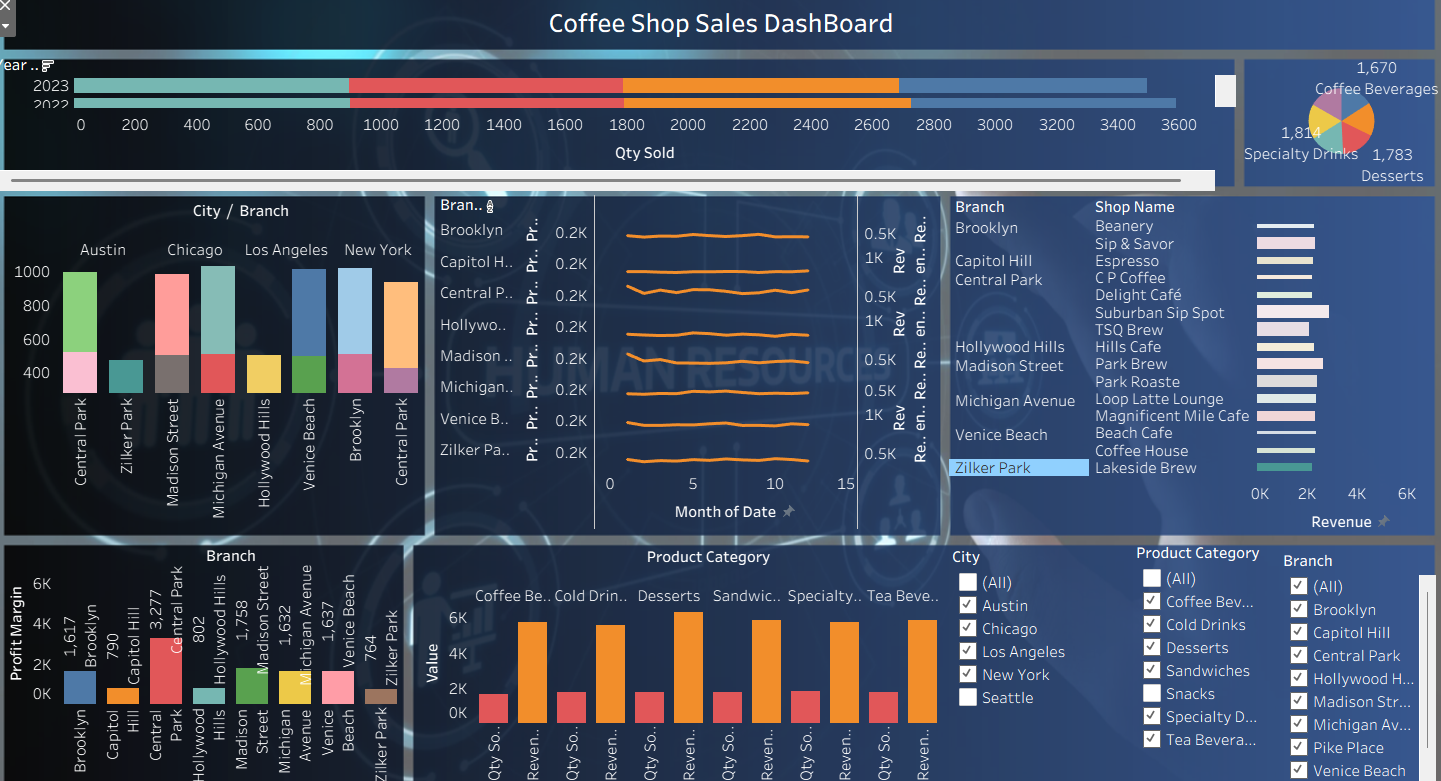

Layout of this report page (visuals, bound fields, positions):
{"tool":"tableau","page":{"name":"Dashboard 1","canvas":[2200,900],"ordinal":0},"visuals":[{"type":"text","box":[12,10,1428,35]},{"type":"worksheet","title":"Product Category vs Qty Sold","mark":"Pie","box":[1248,60,197,132]},{"type":"worksheet","title":"date vs revenue","mark":"Automatic","rows":["Branch","PROFIT MARGIN","REVENUE"],"cols":["DATE"],"box":[439,200,504,335]},{"type":"worksheet","title":"Shop Name vs Revenue","mark":"Automatic","rows":["Branch","Shop Name"],"cols":["REVENUE"],"box":[954,202,485,342]},{"type":"worksheet","title":"Shop Name VS Transition Id","mark":"Automatic","rows":["PROFIT MARGIN"],"cols":["City","Branch"],"box":[10,205,419,333]},{"type":"filter","title":"Product Category Vs Revenue Vs Qty sold","param":"[federated.012i7te1sl9wpy1311mln1aq0pjk].[none:PRODUCT CATEGORY:nk]","box":[1141,547,129,225]},{"type":"worksheet","title":"Branch Vs profit margin","mark":"Automatic","rows":["PROFIT MARGIN"],"cols":["Branch"],"box":[3,550,405,239]},{"type":"worksheet","title":"Product Category Vs Revenue Vs Qty sold","mark":"Automatic","cols":["PRODUCT CATEGORY"],"box":[419,551,528,237]},{"type":"filter","title":"Shop Name VS Transition Id","param":"[federated.012i7te1sl9wpy1311mln1aq0pjk].[none:City:nk]","box":[957,551,160,236]},{"type":"filter","title":"Shop Name VS Transition Id","param":"[federated.012i7te1sl9wpy1311mln1aq0pjk].[none:Branch:nk]","box":[1288,555,153,233]},{"type":"legend","title":"Product Category Vs Revenue Vs Qty sold","param":"[federated.012i7te1sl9wpy1311mln1aq0pjk].[sum:REVENUE:qk]","box":[1079,566,140,43]}]}

Visuals, with their boxes on the page's 2200x900 design canvas (x1, y1, x2, y2). These are canvas units, not pixel positions in the 1441x781 screenshot, which may show the page scaled, cropped or inside an application window:
text: 12 10 1440 45
"Product Category vs Qty Sold" worksheet (Pie marks): 1248 60 1445 192
"date vs revenue" worksheet: 439 200 943 535
"Shop Name vs Revenue" worksheet: 954 202 1439 544
"Shop Name VS Transition Id" worksheet: 10 205 429 538
"Product Category Vs Revenue Vs Qty sold" filter: 1141 547 1270 772
"Branch Vs profit margin" worksheet: 3 550 408 789
"Product Category Vs Revenue Vs Qty sold" worksheet: 419 551 947 788
"Shop Name VS Transition Id" filter: 957 551 1117 787
"Shop Name VS Transition Id" filter: 1288 555 1441 788
"Product Category Vs Revenue Vs Qty sold" legend: 1079 566 1219 609
